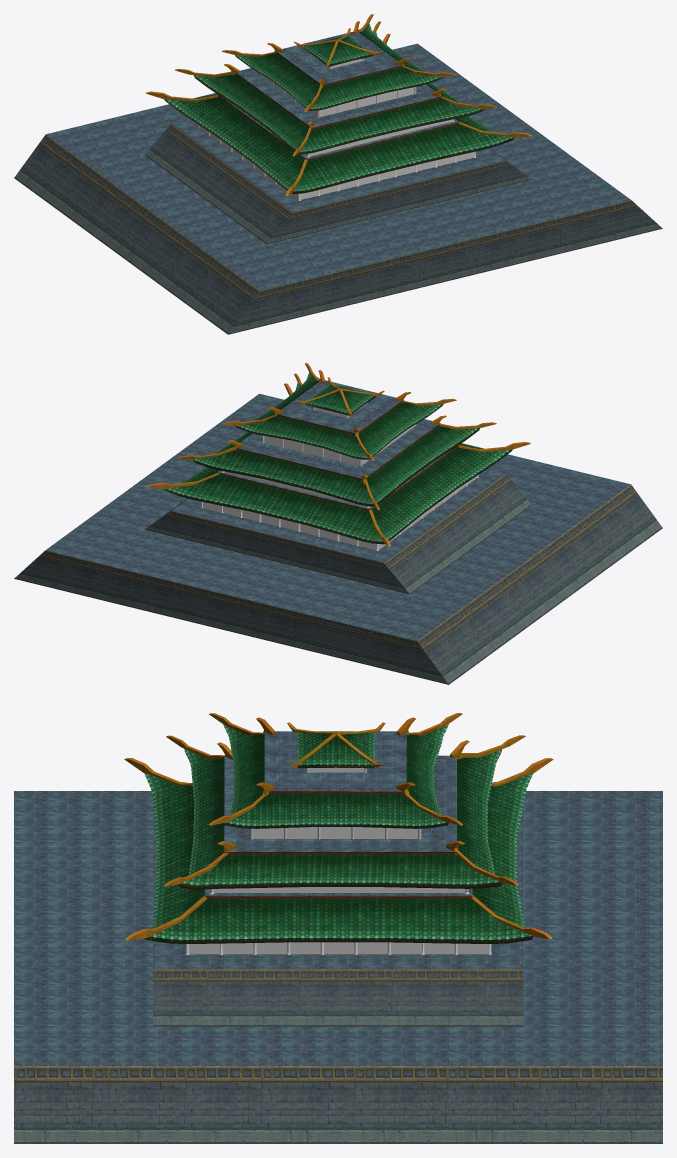
The model's file is environment_Building_sea_001_a.FBX.
3 views of the same model, one above another, from view 1: azimuth 30°, elevation 25°; view 2: azimuth 150°, elevation 25°; view 3: azimuth 270°, elevation 25° (orthographic). The views are drawn at different scales.
Visible parts, largest first — view 1: environment_Building_sea_001_a08, environment_Building_sea_001_a04, environment_Building_sea_001_a02, environment_Building_sea_001_a06, environment_Building_sea_001_a03, environment_Building_sea_001_a07, environment_Building_sea_001_a01, environment_Building_sea_001_a05; view 2: environment_Building_sea_001_a08, environment_Building_sea_001_a04, environment_Building_sea_001_a02, environment_Building_sea_001_a06, environment_Building_sea_001_a03, environment_Building_sea_001_a07, environment_Building_sea_001_a01, environment_Building_sea_001_a05; view 3: environment_Building_sea_001_a08, environment_Building_sea_001_a02, environment_Building_sea_001_a04, environment_Building_sea_001_a06, environment_Building_sea_001_a03, environment_Building_sea_001_a01, environment_Building_sea_001_a07, environment_Building_sea_001_a05.
Boxes of the visible parts, x1,y1,x2,y2 form: environment_Building_sea_001_a08: (46,43,630,290); environment_Building_sea_001_a04: (14,134,662,334); environment_Building_sea_001_a02: (164,23,514,193); environment_Building_sea_001_a06: (145,123,531,244); environment_Building_sea_001_a03: (220,32,458,159); environment_Building_sea_001_a07: (171,119,505,212); environment_Building_sea_001_a01: (198,54,475,200); environment_Building_sea_001_a05: (145,14,531,195); environment_Building_sea_001_a08: (45,393,630,640); environment_Building_sea_001_a04: (14,484,662,684); environment_Building_sea_001_a02: (163,372,512,544); environment_Building_sea_001_a06: (145,473,531,594); environment_Building_sea_001_a03: (217,380,452,509); environment_Building_sea_001_a07: (171,469,505,562); environment_Building_sea_001_a01: (201,403,478,550); environment_Building_sea_001_a05: (147,363,530,546); environment_Building_sea_001_a08: (14,791,662,1066); environment_Building_sea_001_a02: (144,724,533,943); environment_Building_sea_001_a04: (14,1066,662,1143); environment_Building_sea_001_a06: (153,968,523,1026); environment_Building_sea_001_a03: (205,731,472,896); environment_Building_sea_001_a01: (185,767,491,955); environment_Building_sea_001_a07: (153,811,523,968); environment_Building_sea_001_a05: (124,713,553,940).
Bounding box in the file's own units: 4110 × 1484 × 3504.
